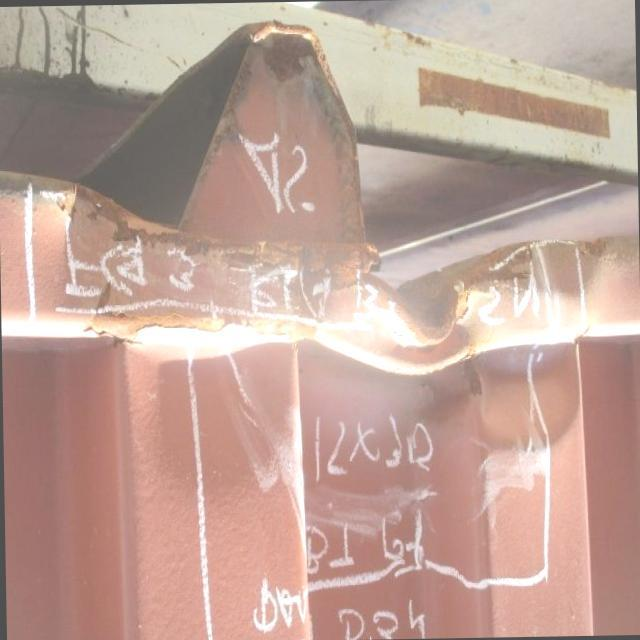dent: (114, 323, 586, 489)
